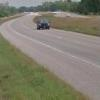Car: (32, 17, 56, 37)
